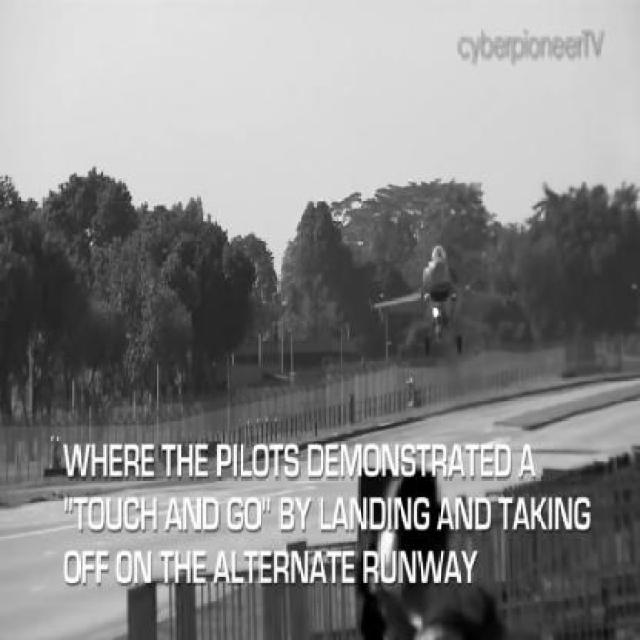Airplane: (369, 227, 521, 358)
